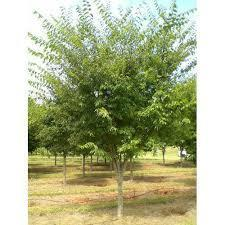tree: (30, 3, 190, 220)
